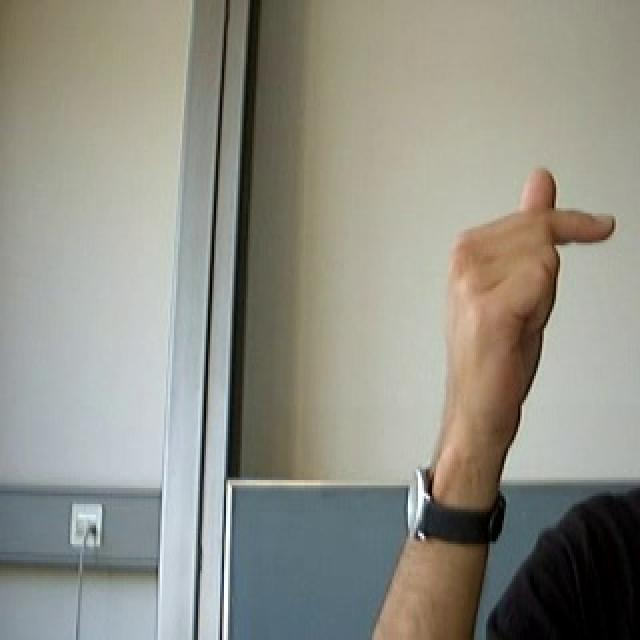T: (417, 154, 620, 456)
